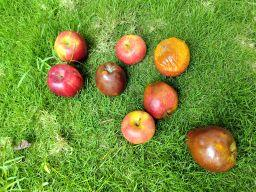apple: (176, 123, 246, 177), (137, 74, 186, 125), (149, 31, 197, 80), (91, 59, 139, 104), (43, 59, 88, 101), (50, 25, 91, 67), (120, 108, 159, 151), (115, 27, 148, 67)
